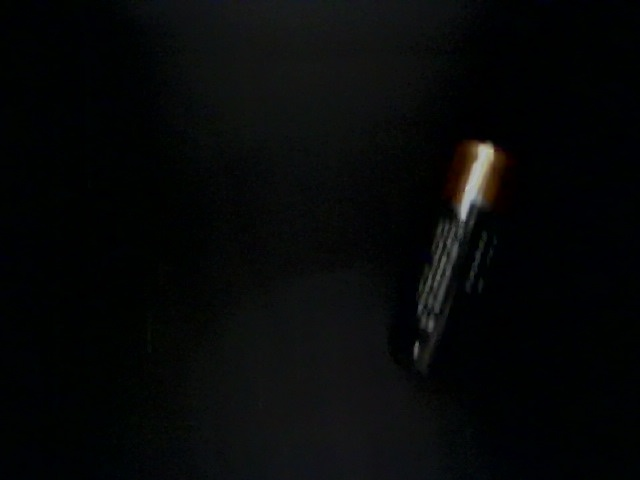QTLJ: (35, 31, 200, 235)
